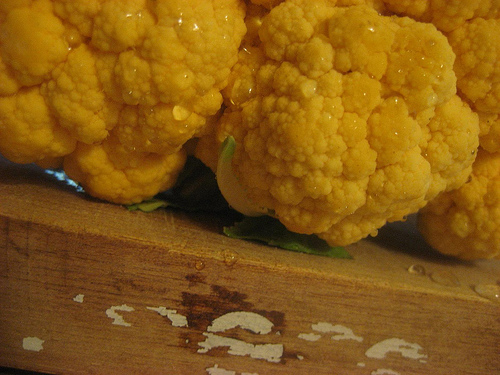cauliflower: (194, 1, 482, 245), (1, 0, 247, 208), (390, 0, 499, 261)
